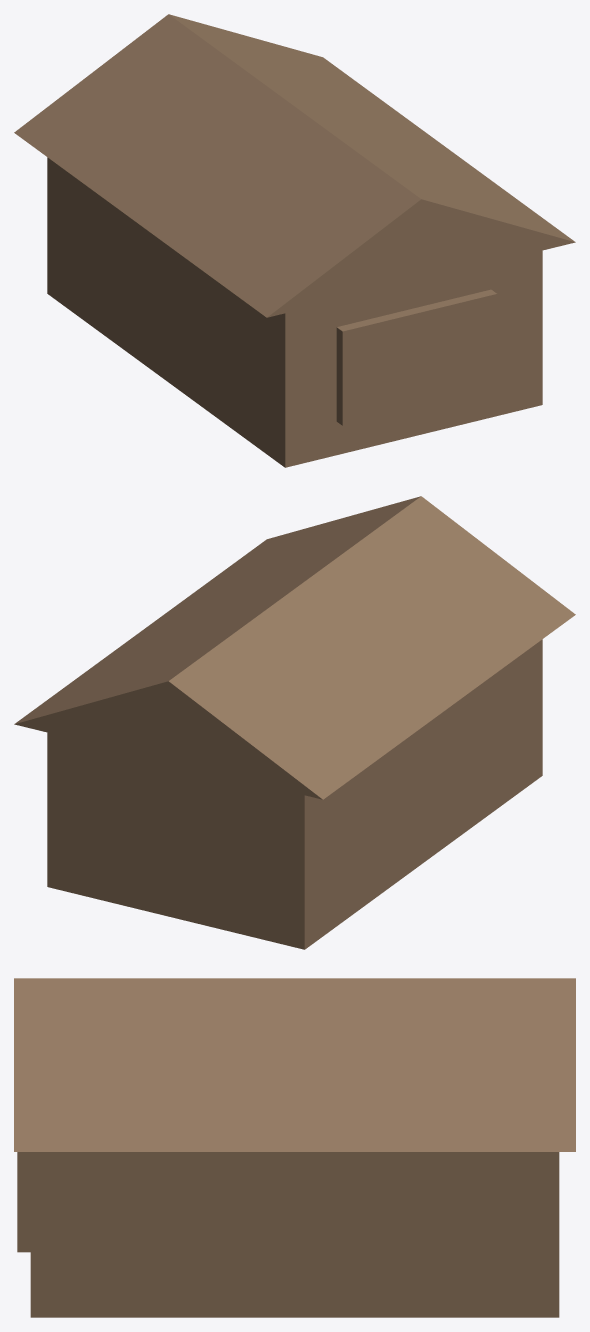
Rendered from tumba4.obj.
The picture shows the model from 3 angles, top to bottom: view 1: azimuth 30°, elevation 25°; view 2: azimuth 150°, elevation 25°; view 3: azimuth 270°, elevation 25°; orthographic projection. The views are drawn at different scales.
Visible parts, largest first — view 1: tumba4; view 2: tumba4; view 3: tumba4.
Part boxes in pixels (x1,y1,x2,y2): tumba4: (14, 14, 575, 467); tumba4: (14, 496, 575, 949); tumba4: (14, 978, 575, 1317).
Size of the model in its own units: 1.2 by 0.9 by 1.7.
Materials: 1 (1 with a texture image).
